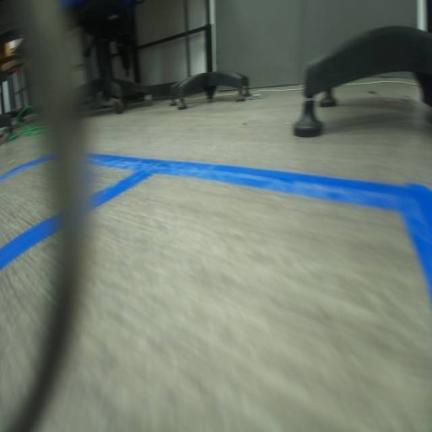place: (0, 156, 431, 431), (0, 148, 169, 269)
